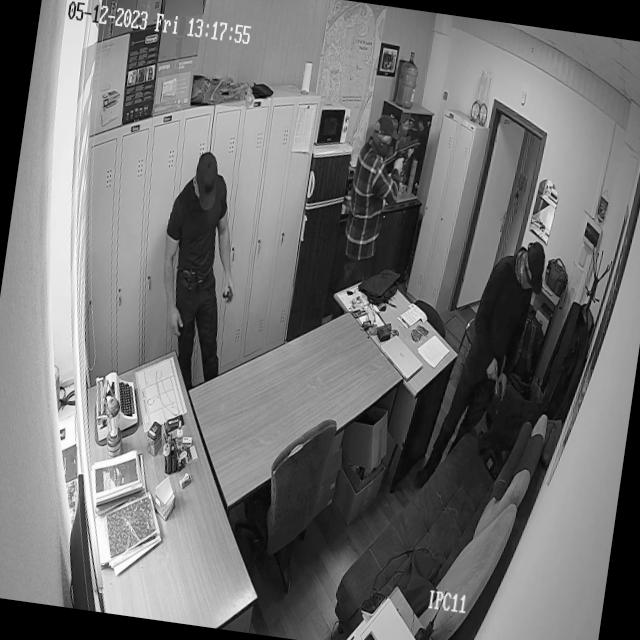gun: (382, 135, 422, 173)
person: (412, 228, 550, 506), (145, 144, 254, 393)
person with a gun: (330, 111, 425, 329)
